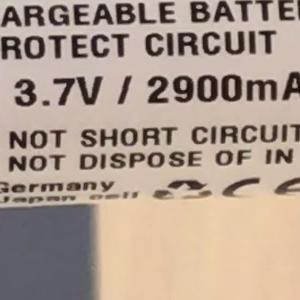3.7V: (5, 66, 113, 117)
